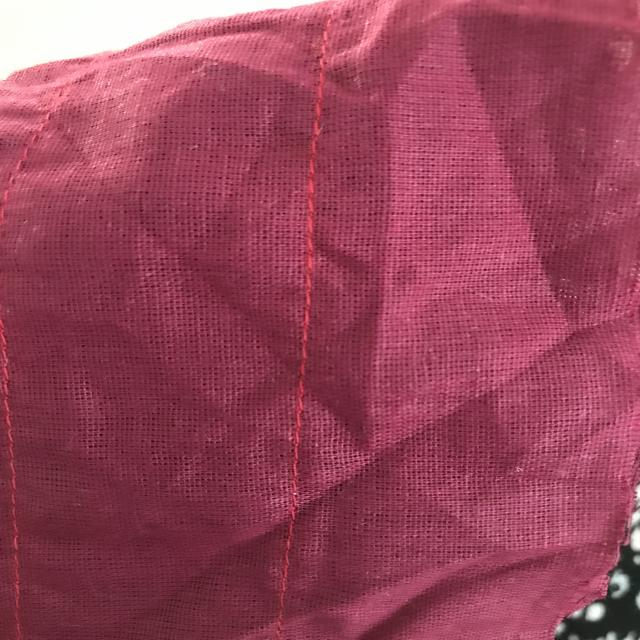good: (275, 297, 333, 400)
